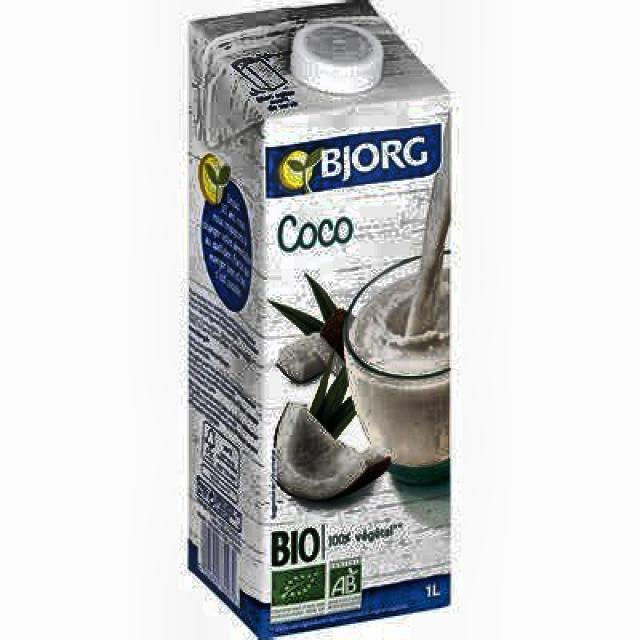cardboard: (184, 0, 453, 638)
